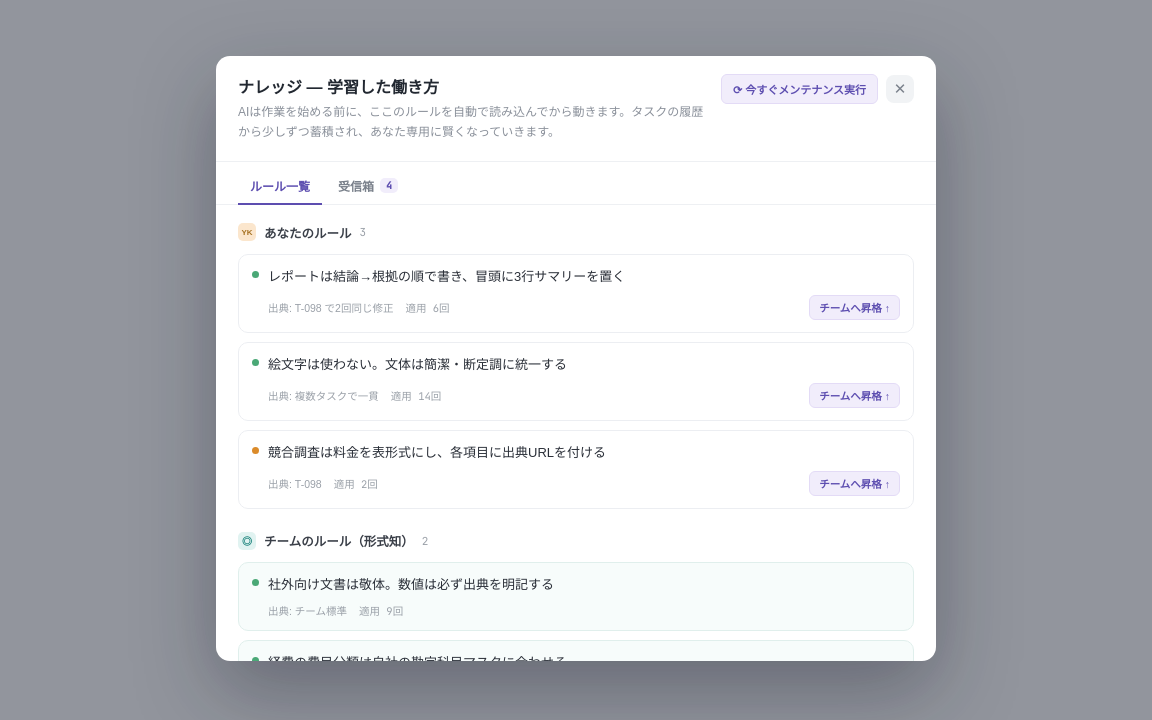
Test: KnowledgeOverlay: 受信箱タブ（#26） › kind ごとのバッジ文言（新規/統合/矛盾/棚卸し）を出す
The image size is (1152, 720).
Click the tab "受信箱 4" at (368, 187), box [326,170,410,205]
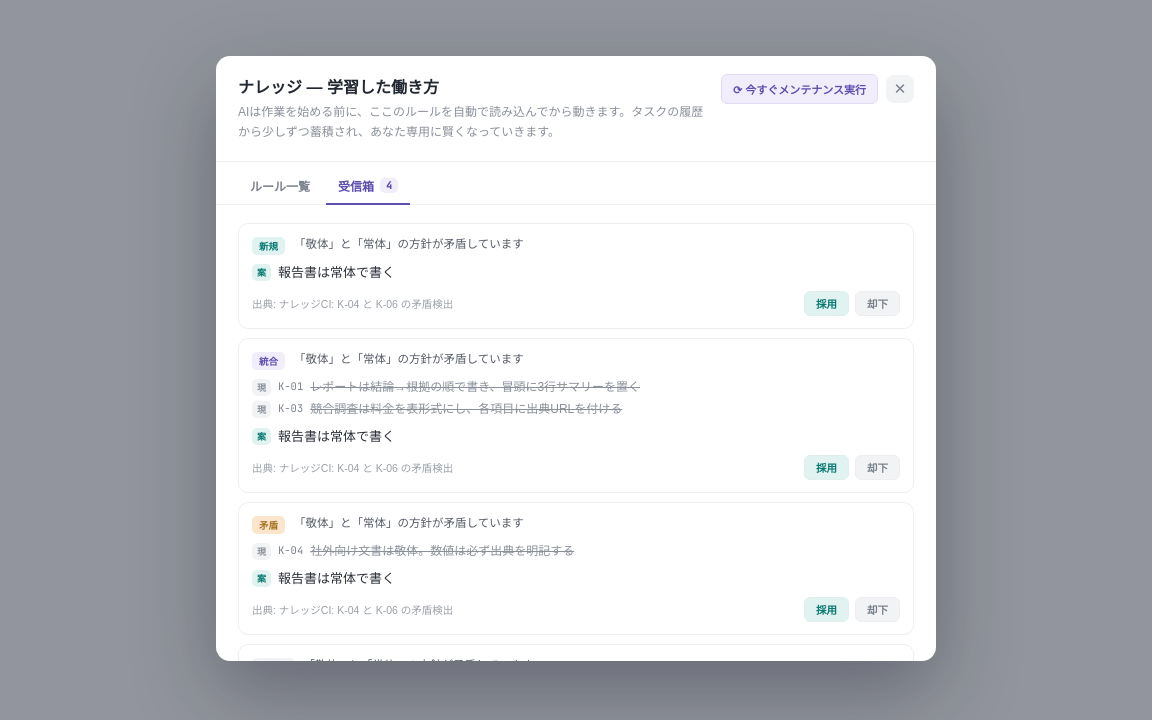
Check: the text "新規" is shown, box [252,237,285,255]
Check: the text "統合" is shown, box [252,352,285,370]
Check: the text "矛盾" is shown, box [252,516,285,534]
